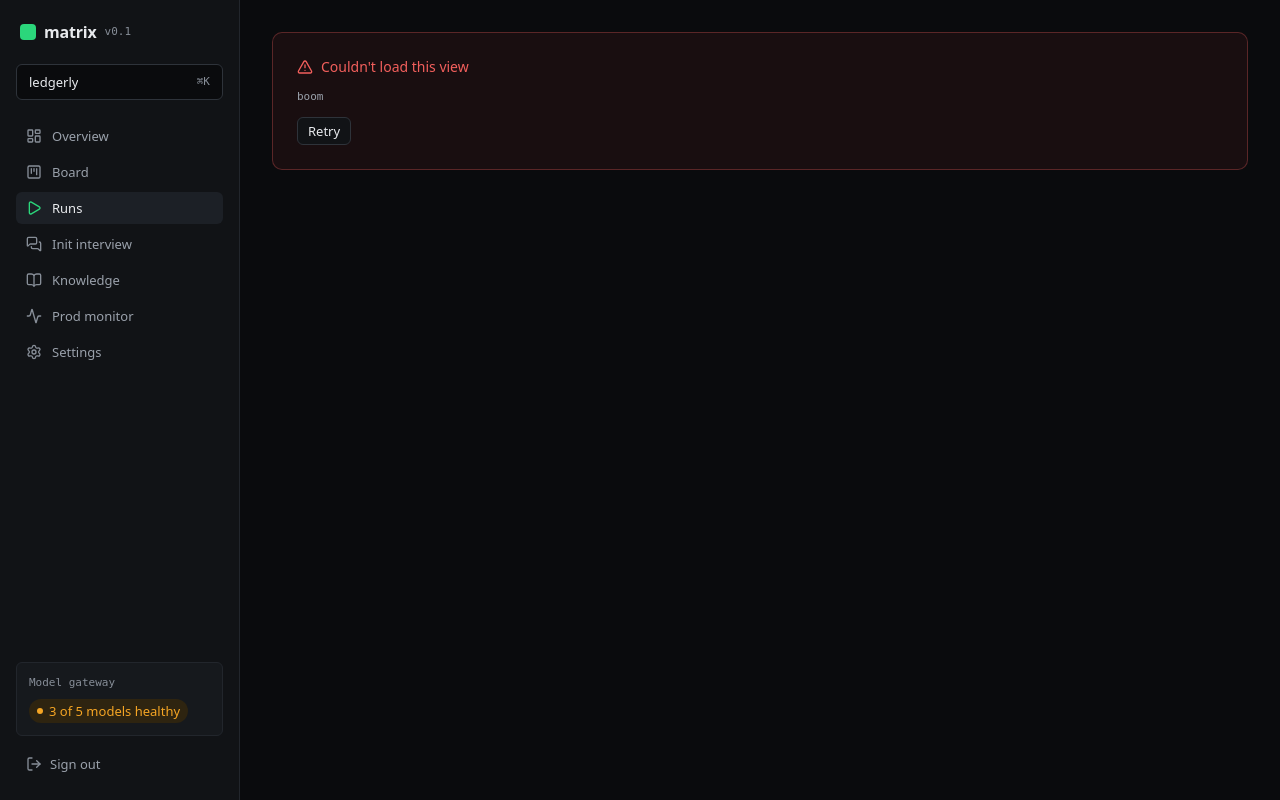
Test: screens › run detail shows an error state with retry when the API fails
Expected: the message shows "Couldn't load this view", x1=321 y1=57 x2=469 y2=76
What coordinates should you click on to do the following:
click the button "Retry"
I would click on:
 (324, 131)
Its box is x1=297 y1=117 x2=351 y2=145.
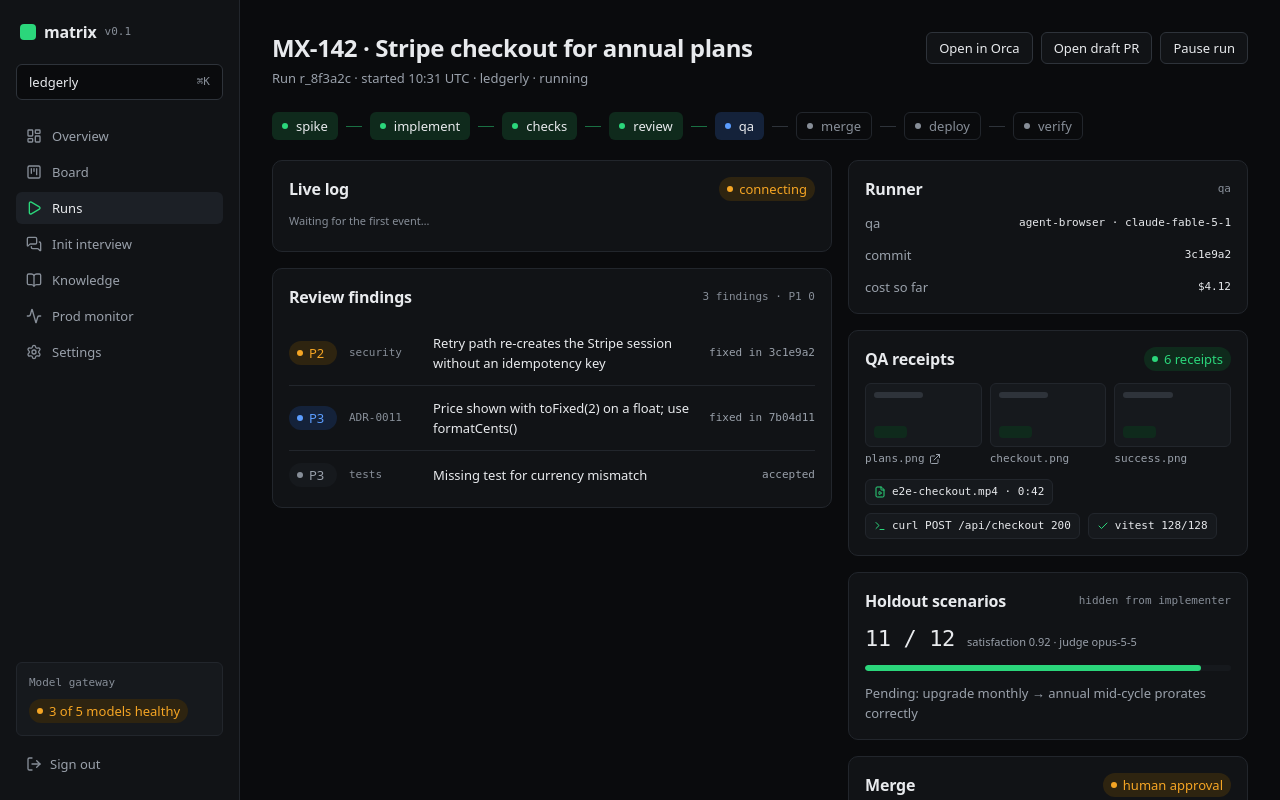
Expected: the heading "MX-142 · Stripe checkout for annual plans" is shown, x1=272 y1=32 x2=753 y2=64
